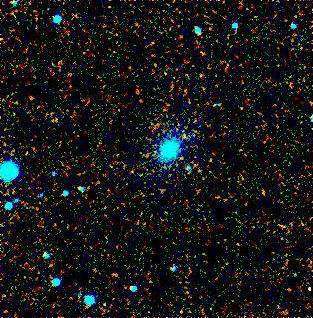star: (292, 274, 313, 304)
